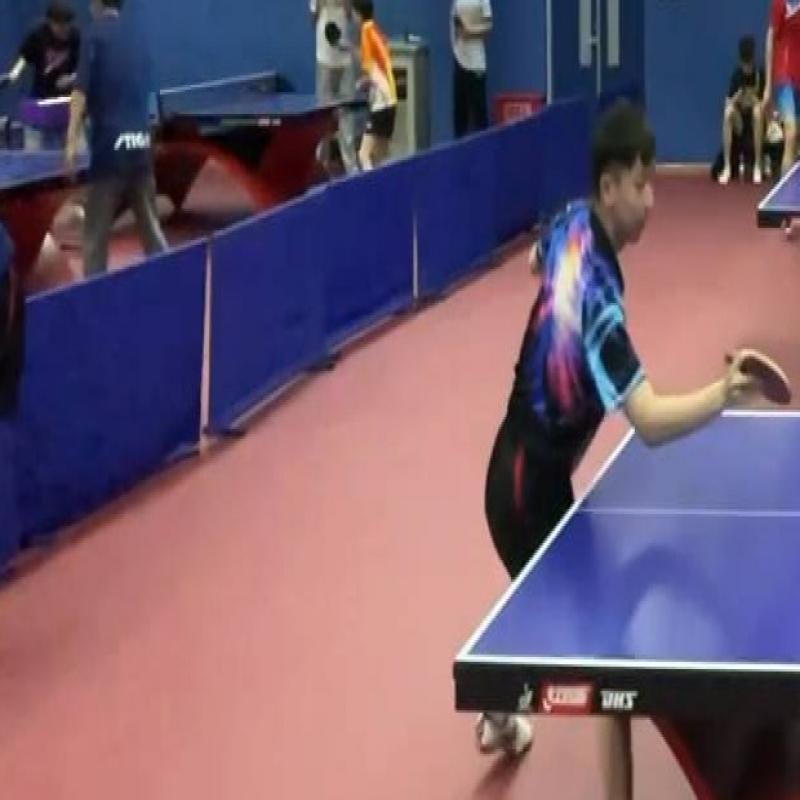bats: (713, 318, 795, 427)
